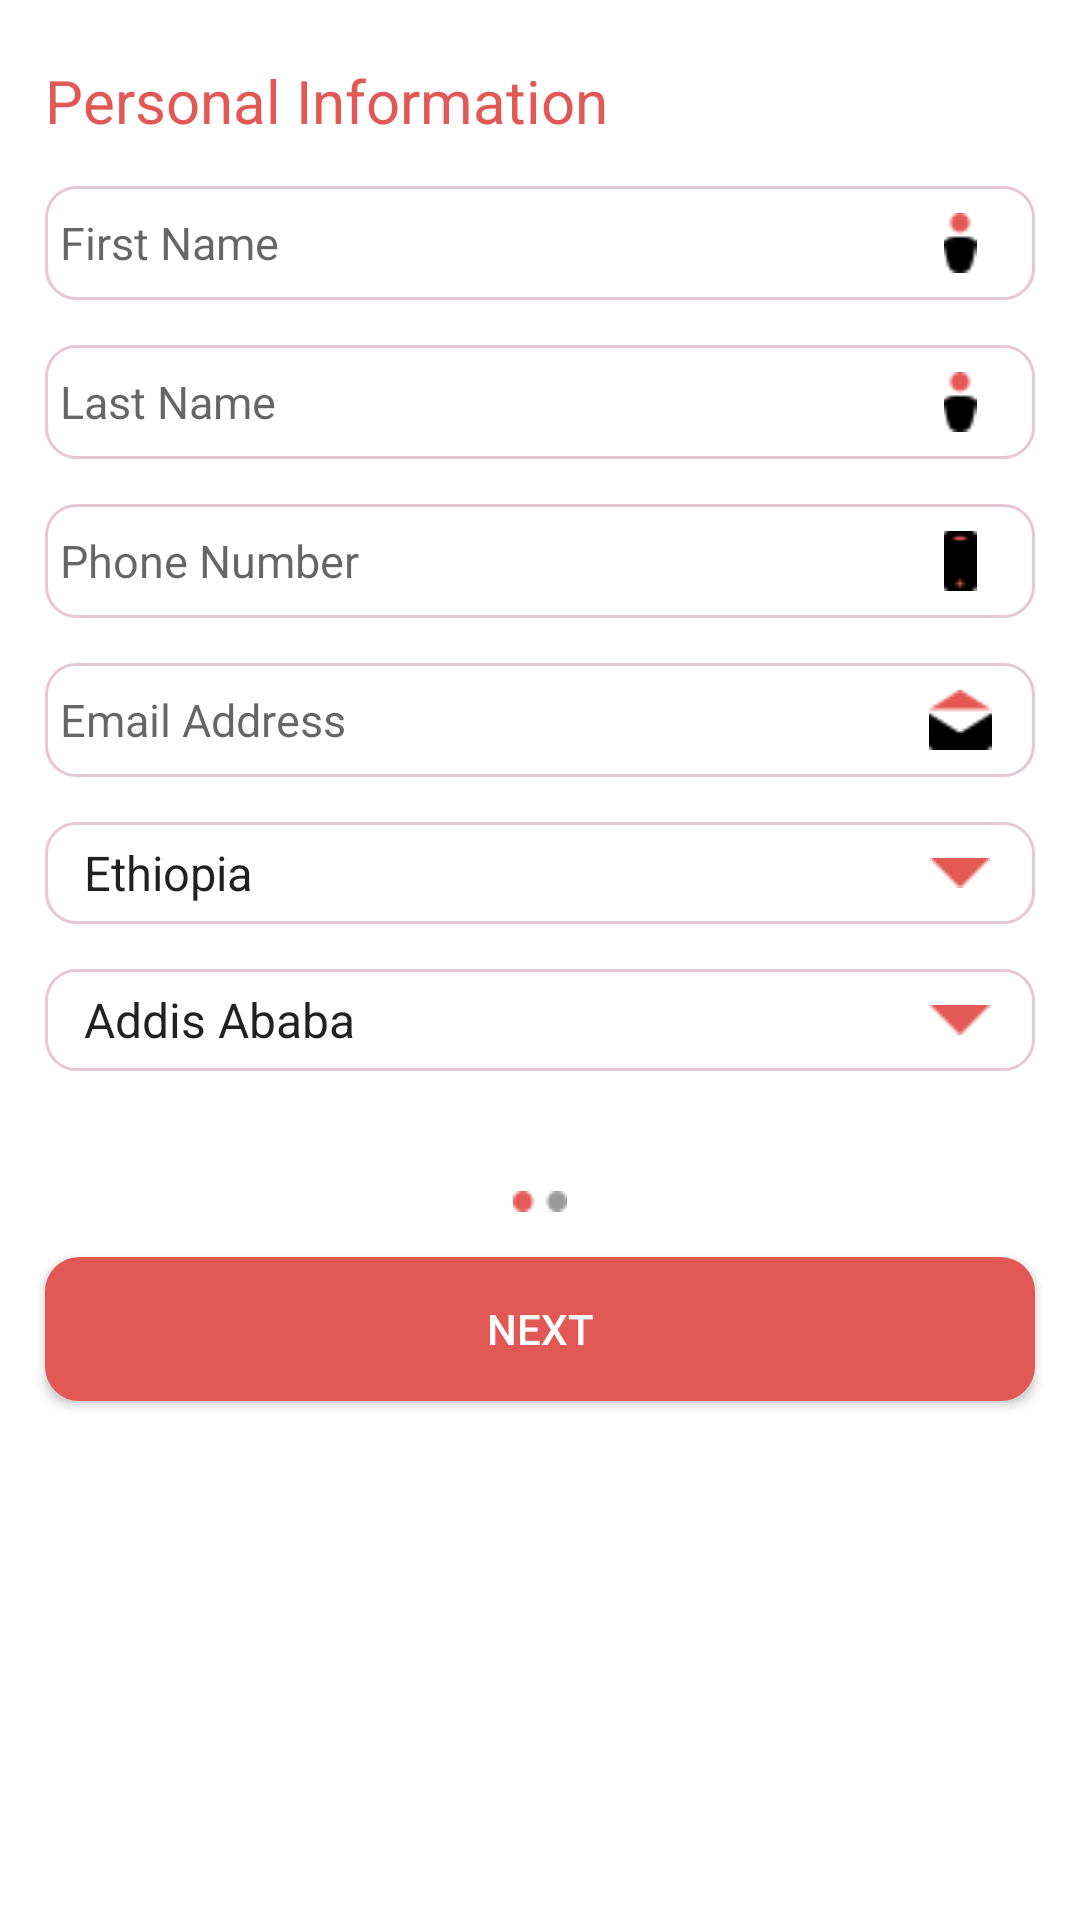

Icons on this 1080w x 1920h Android screen, each with its box as (x1, y1, x2, y2):
drop down: (930, 858, 990, 888), (930, 1005, 990, 1035)
user: (944, 213, 977, 273), (944, 372, 977, 432)
